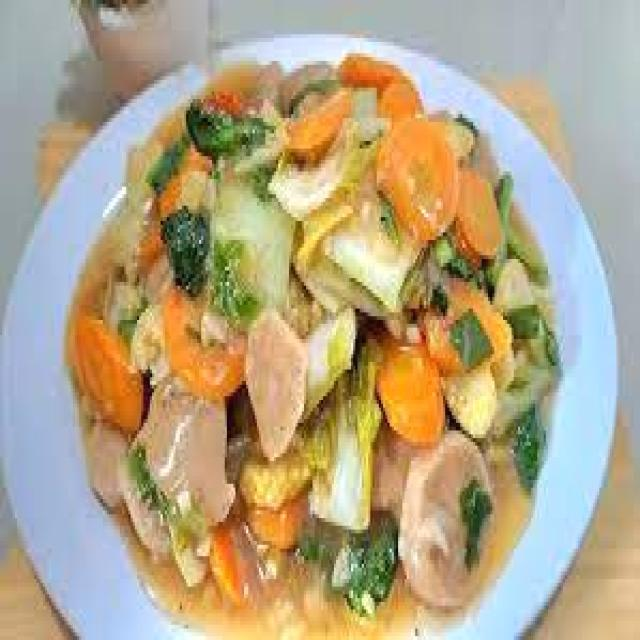capcay: (62, 50, 576, 640)
